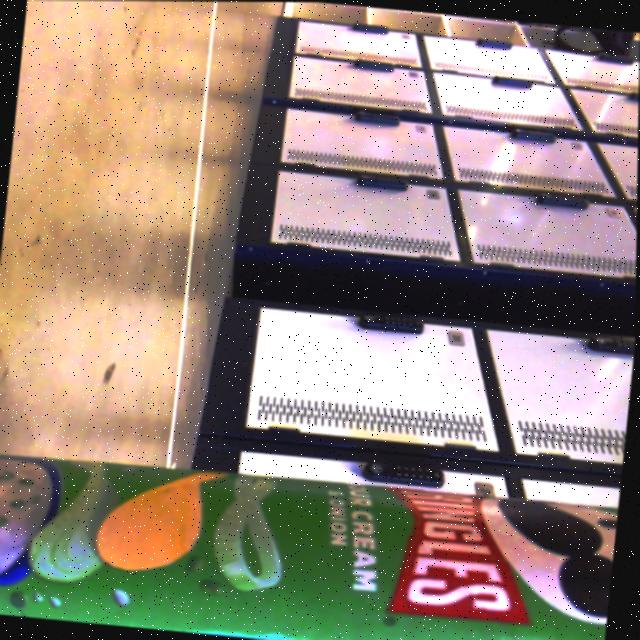greenpringles: (0, 425, 622, 640)
